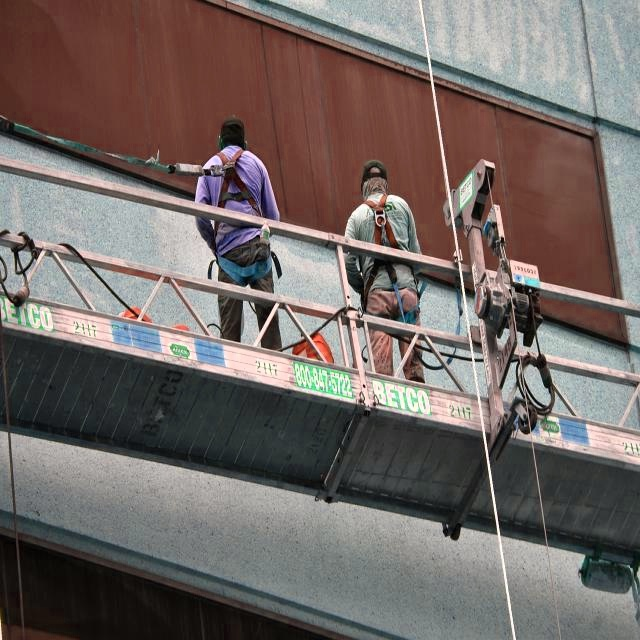safety belt: (351, 193, 429, 321), (207, 157, 283, 286)
